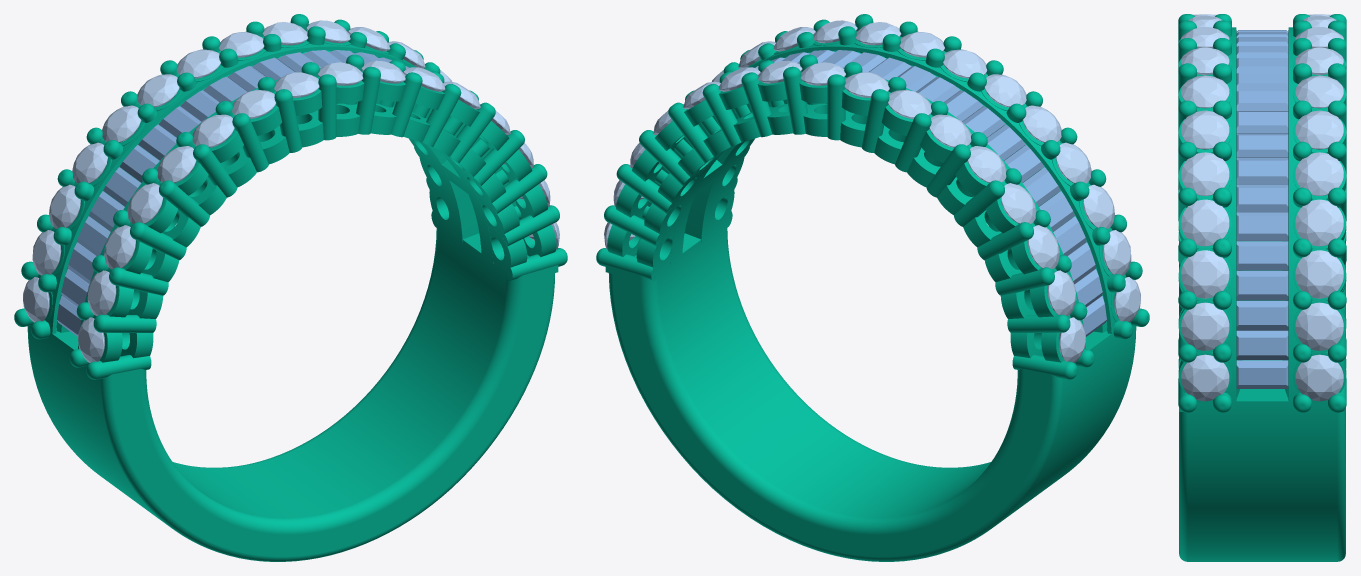
The picture shows the model from 3 angles, left to right: view 1: azimuth 30°, elevation 25°; view 2: azimuth 150°, elevation 25°; view 3: azimuth 270°, elevation 25°; orthographic projection. The views are drawn at different scales.
Visible parts, largest first — view 1: size - T 6247 C(front).3dm, Diamond_Round (×18), Bezel (×14), Diamond_Baguette Straight (×10); view 2: size - T 6247 C(front).3dm, Diamond_Round (×18), Bezel (×14), Diamond_Baguette Straight (×10); view 3: size - T 6247 C(front).3dm, Diamond_Round (×20), Diamond_Baguette Straight (×16), Bezel (×12).
Part boxes in pixels (left/top/right/bottom): size - T 6247 C(front).3dm: left=14, top=14, right=567, bottom=561; Diamond_Round (×18): left=23, top=22, right=363, bottom=362; Bezel (×14): left=120, top=103, right=556, bottom=358; Diamond_Baguette Straight (×10): left=61, top=77, right=247, bottom=306; size - T 6247 C(front).3dm: left=596, top=14, right=1149, bottom=561; Diamond_Round (×18): left=800, top=22, right=1140, bottom=362; Bezel (×14): left=607, top=103, right=1043, bottom=358; Diamond_Baguette Straight (×10): left=916, top=77, right=1102, bottom=306; size - T 6247 C(front).3dm: left=1178, top=14, right=1346, bottom=561; Diamond_Round (×20): left=1181, top=16, right=1343, bottom=401; Diamond_Baguette Straight (×16): left=1236, top=31, right=1288, bottom=388; Bezel (×12): left=1178, top=119, right=1346, bottom=402.
Bounding box in the file's own units: 2.82 × 2.71 × 0.8317.
